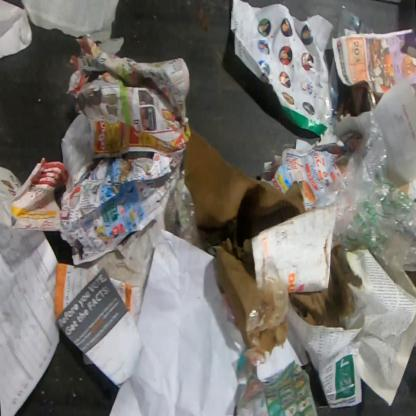cardboard: (183, 128, 306, 354), (251, 207, 335, 294), (289, 243, 362, 329)
soft_plastic: (316, 111, 415, 274), (336, 5, 378, 38), (328, 54, 346, 124)
